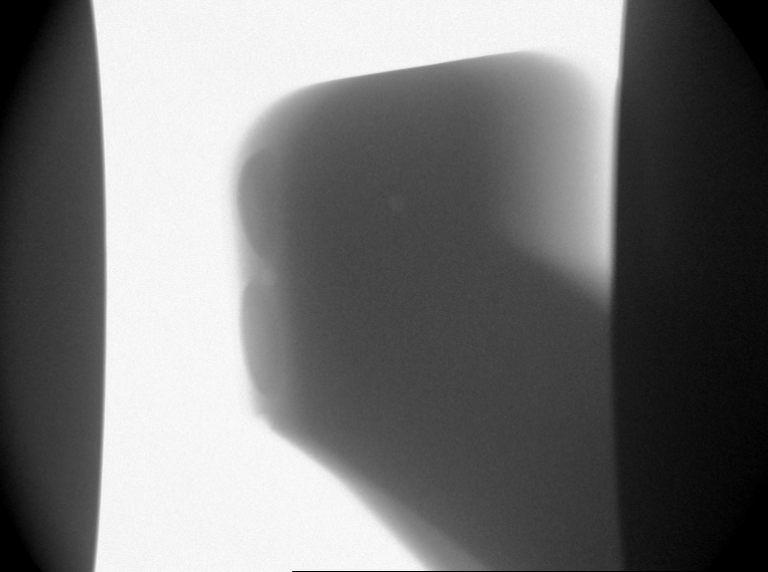defect: (258, 265, 287, 290)
